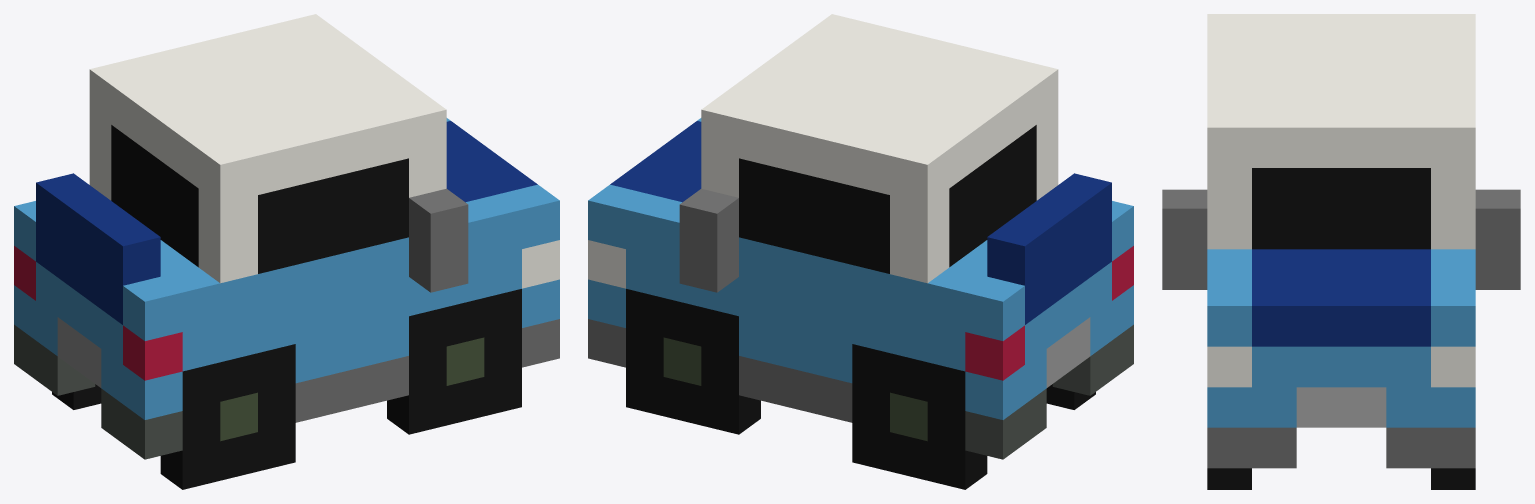
The model's file is car.obj.
The picture shows the model from 3 angles, left to right: view 1: azimuth 30°, elevation 25°; view 2: azimuth 150°, elevation 25°; view 3: azimuth 270°, elevation 25°; orthographic projection. The views are drawn at different scales.
Visible parts, largest first — view 1: Car; view 2: Car; view 3: Car.
Part boxes in pixels (x1,y1,x2,y2): Car: (14, 14, 559, 489); Car: (588, 14, 1133, 489); Car: (1162, 14, 1520, 489).
Bounding box in the file's own units: 1.1 × 0.8 × 0.8.
Materials: 1 (1 with a texture image).
